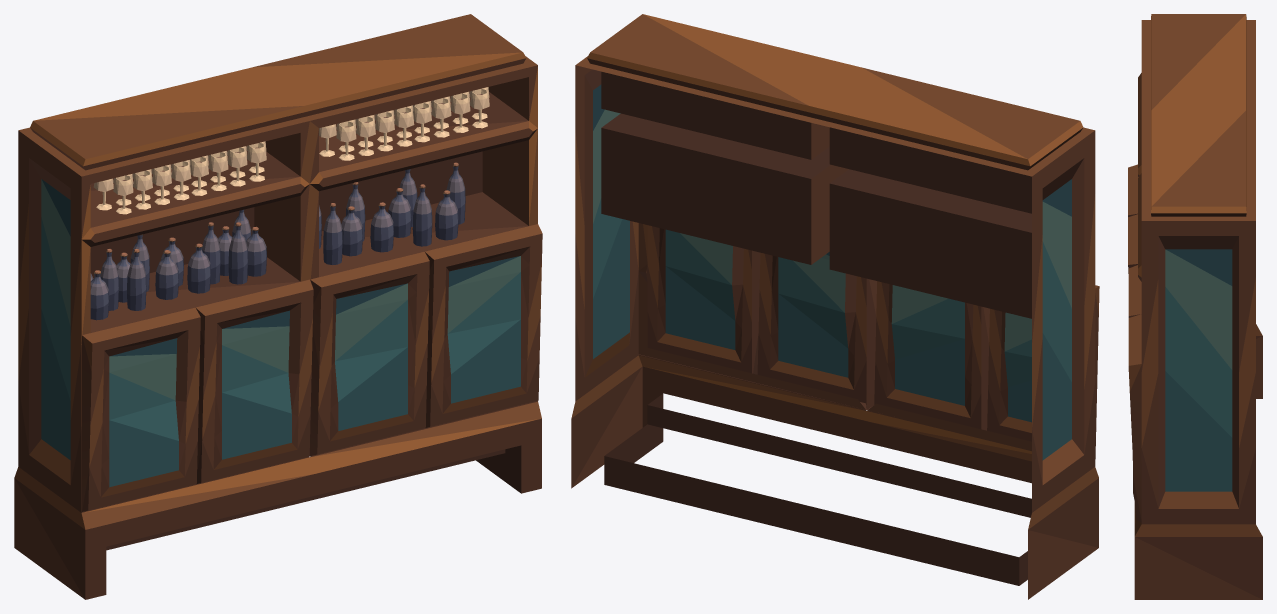
File: full_cabinet_behind_bar_desk_doors.fbx
The picture shows the model from 3 angles, left to right: view 1: azimuth 30°, elevation 25°; view 2: azimuth 150°, elevation 25°; view 3: azimuth 270°, elevation 25°; orthographic projection. The views are drawn at different scales.
Visible parts, largest first — view 1: full_cabinet_behind_bar_desk_doors; view 2: full_cabinet_behind_bar_desk_doors; view 3: full_cabinet_behind_bar_desk_doors.
Boxes of the visible parts, <box> form: full_cabinet_behind_bar_desk_doors: <box>14,14,542,599</box>; full_cabinet_behind_bar_desk_doors: <box>571,14,1099,599</box>; full_cabinet_behind_bar_desk_doors: <box>1128,14,1262,599</box>.
Size of the model in its own units: 250 by 226 by 70.92.
